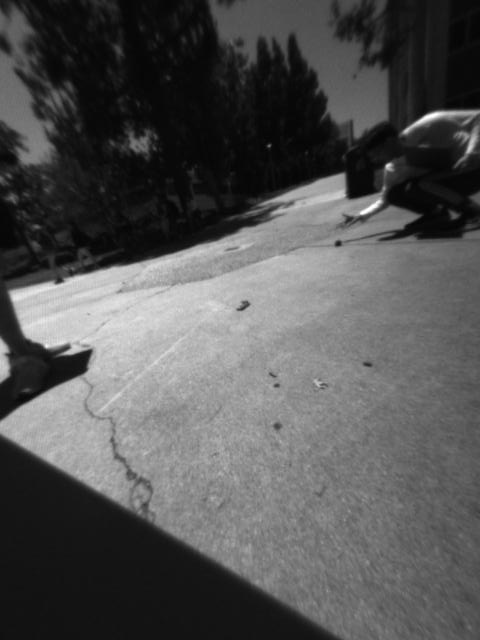dogtoy: (324, 232, 350, 254)
